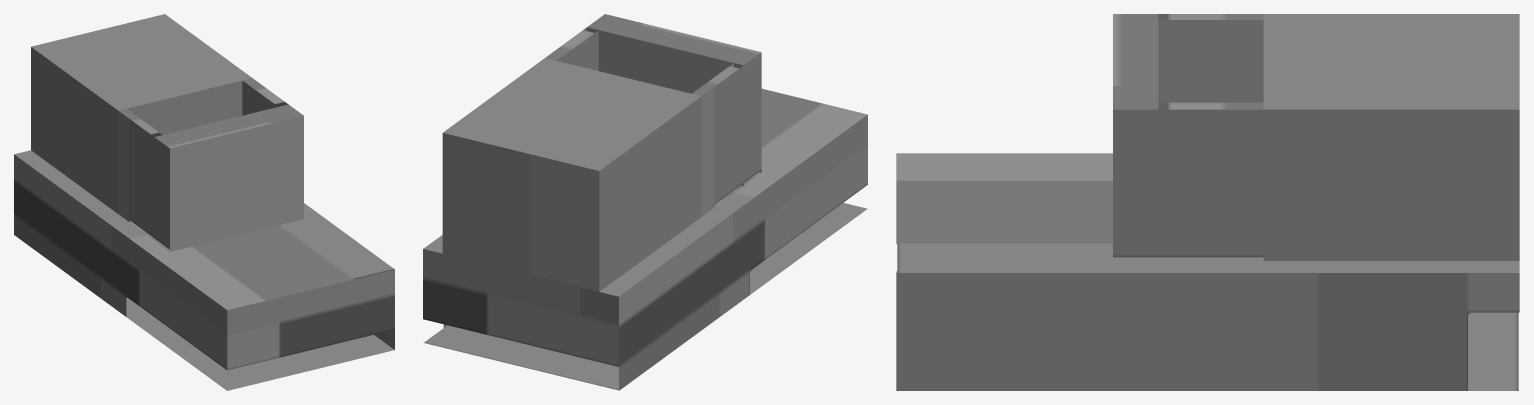
3 renders of one model, left to right at view 1: azimuth 30°, elevation 25°; view 2: azimuth 150°, elevation 25°; view 3: azimuth 270°, elevation 25°, orthographic. The views are drawn at different scales.
Size of the model in its own units: 0.94 by 0.987 by 2.07.
